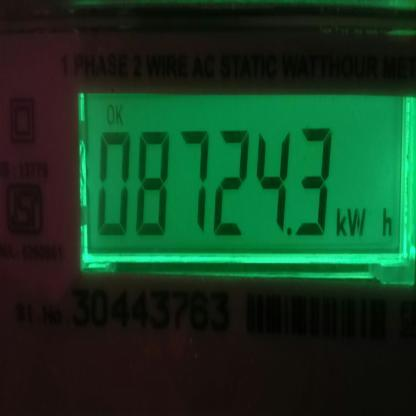.: (334, 205, 401, 239)
0: (298, 123, 335, 239), (283, 224, 297, 241)
1: (95, 126, 131, 237)
3: (214, 127, 251, 237)
5: (255, 125, 289, 237)
8: (177, 127, 209, 233)
9: (136, 128, 170, 239)
